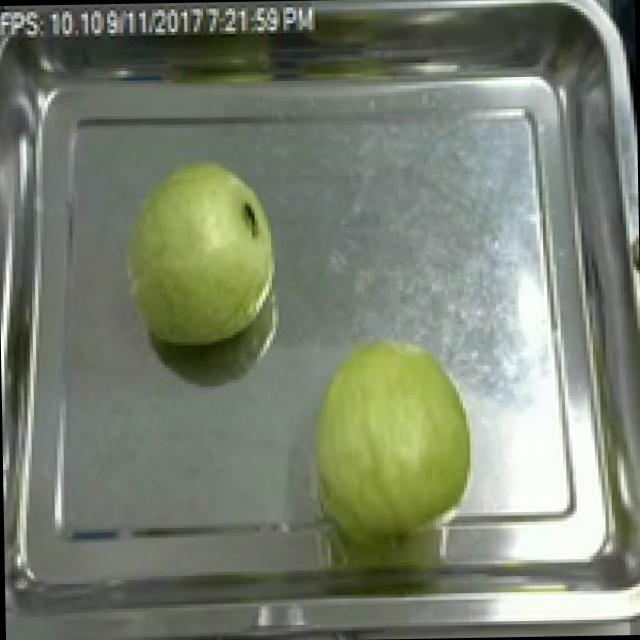Fruit: (298, 328, 484, 544), (112, 147, 289, 356)
